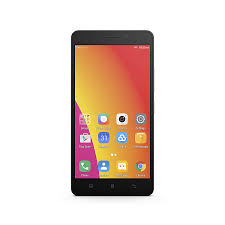lenovo: (66, 27, 155, 200)
